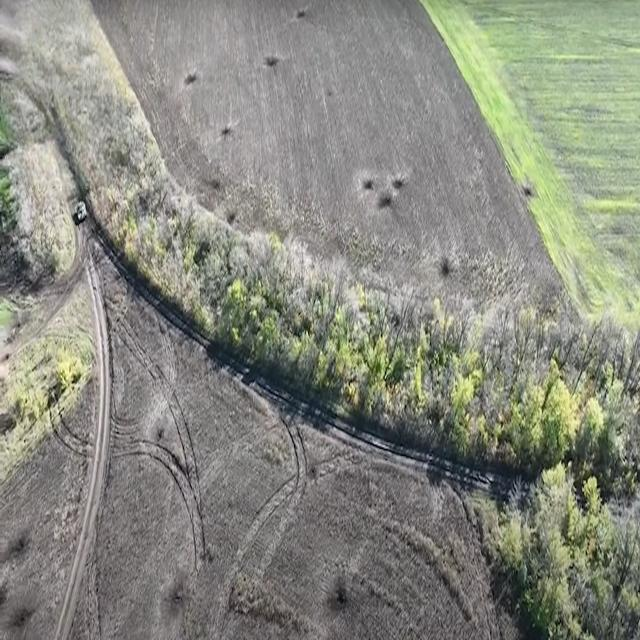MBT: (75, 201, 89, 226)
